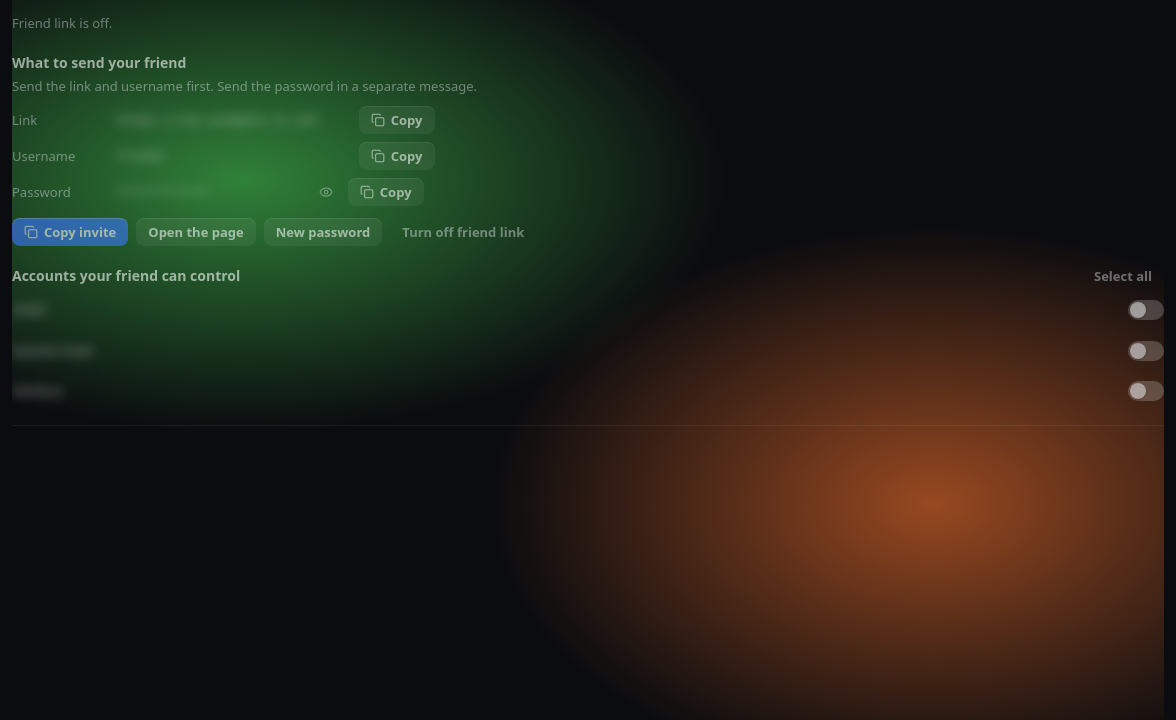
Test: copy friend link writes the plain login URL
This screenshot has width=1176, height=720.
Step 1. Click the button with aria-label "Copy friend link" → click(397, 120), box [359,106,434,134]
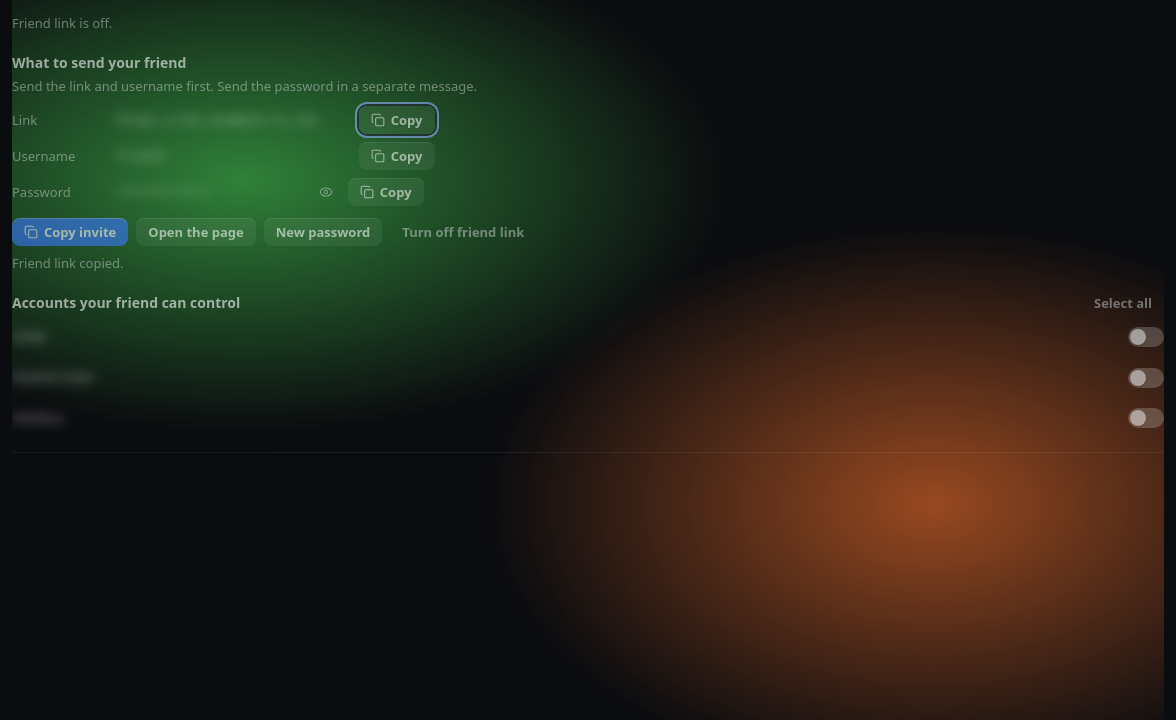
Expected: the text "Friend link copied." is shown, [12,254,124,272]
